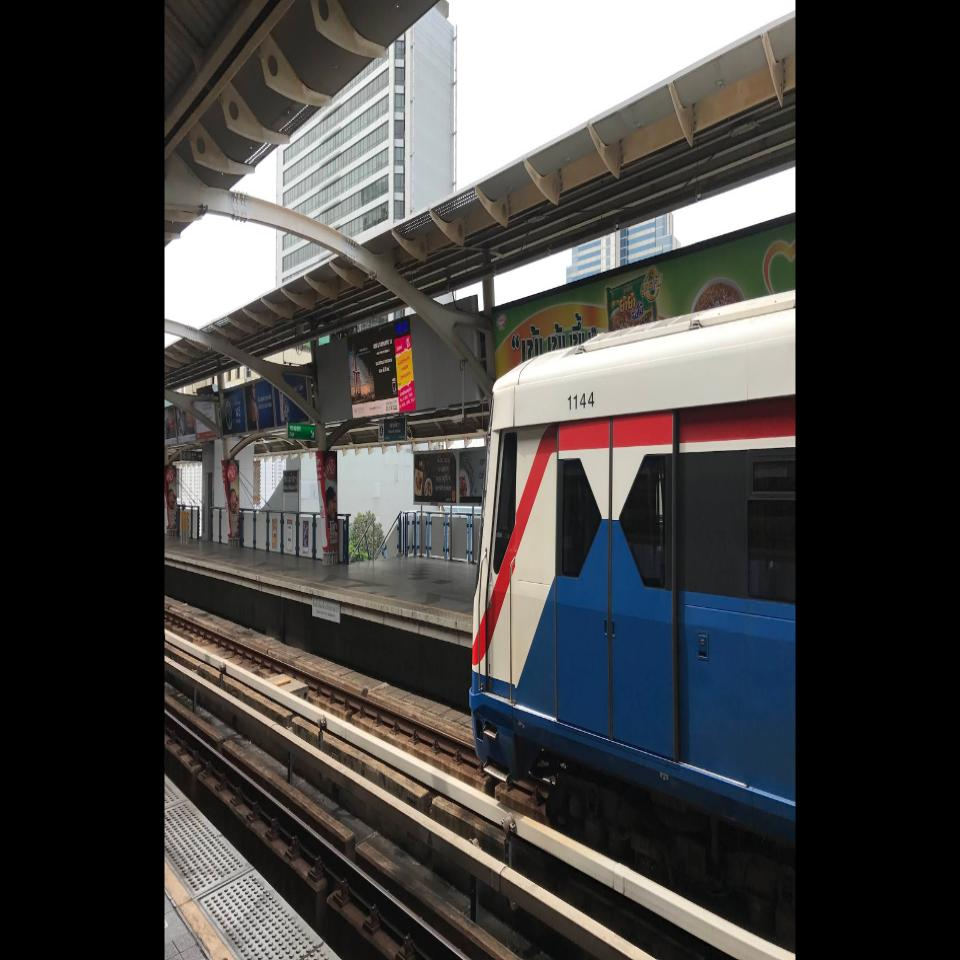National Stadium: (282, 469, 299, 494), (388, 417, 401, 442)
